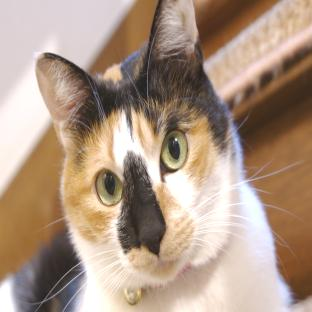Animal: (1, 0, 299, 312)
